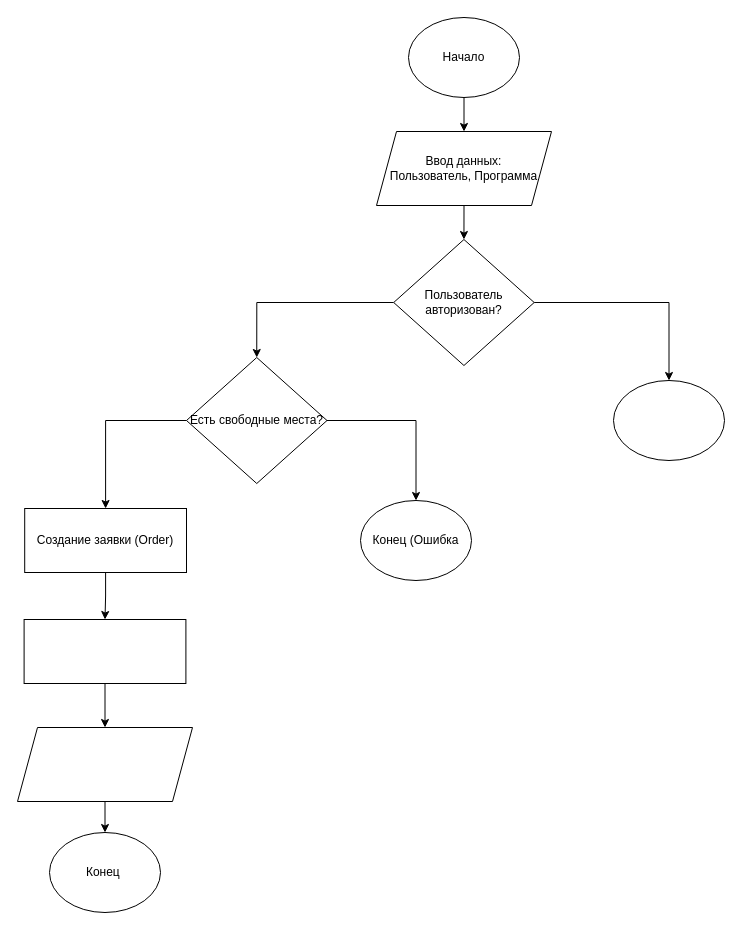
The diagram is 742 pixels wide and 930 high, and some of its shapes have lost their labels. The shapes that lost their labels are listed below. From the top down, each one's centre as x and y in pixels, then its label:
At (x=668, y=420): "Конец (Ошибка)".
At (x=104, y=651): "Уменьшение свободных мест на 1".
At (x=104, y=764): "Вывод: Сообщение об успехе".
